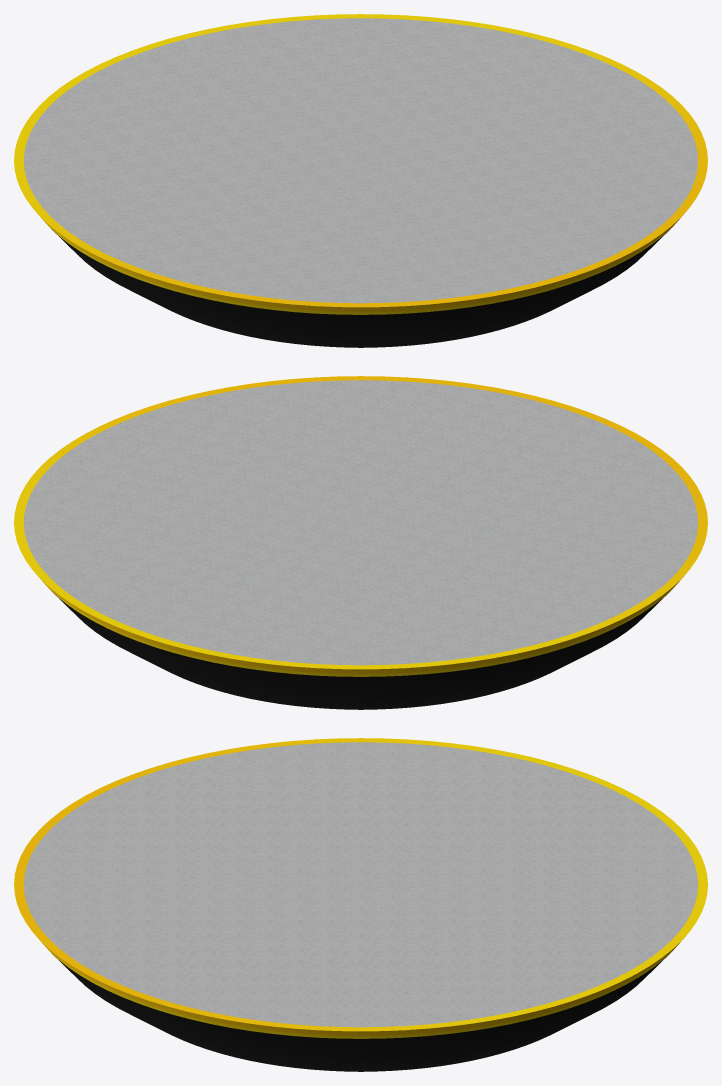
The model's file is Mafia_hq_Platform.FBX.
The picture shows the model from 3 angles, top to bottom: view 1: azimuth 30°, elevation 25°; view 2: azimuth 150°, elevation 25°; view 3: azimuth 270°, elevation 25°; orthographic projection.
Parts seen in each view (by area): view 1: harbour_mafia_hq_platform; view 2: harbour_mafia_hq_platform; view 3: harbour_mafia_hq_platform.
Boxes of the visible parts, bbox=[...] form: harbour_mafia_hq_platform: bbox=[14, 14, 707, 347]; harbour_mafia_hq_platform: bbox=[14, 376, 707, 709]; harbour_mafia_hq_platform: bbox=[14, 738, 707, 1071].
Bounding box in the file's own units: 4165 × 857 × 4165.
